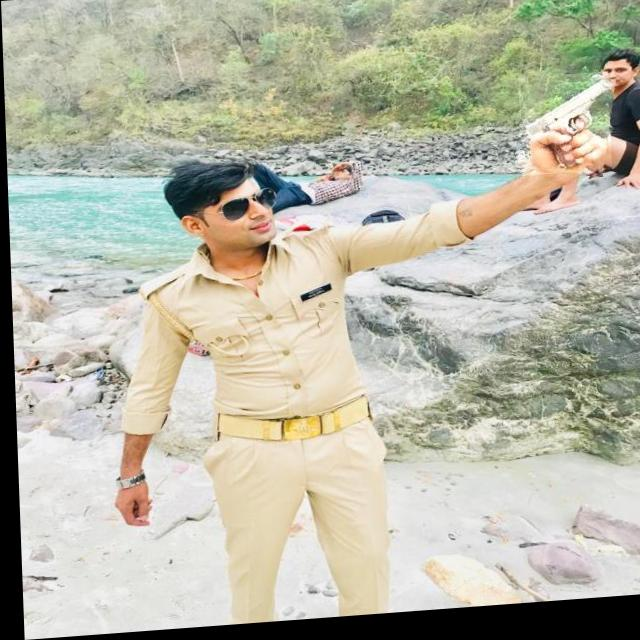handgun: (512, 77, 613, 187)
